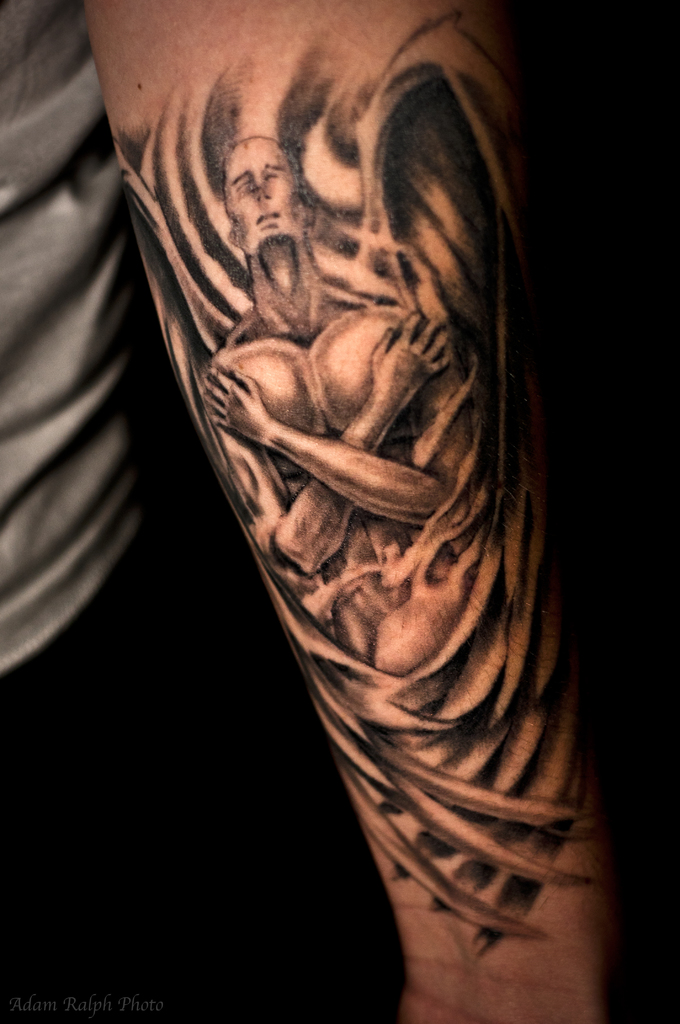face: (223, 130, 299, 289)
